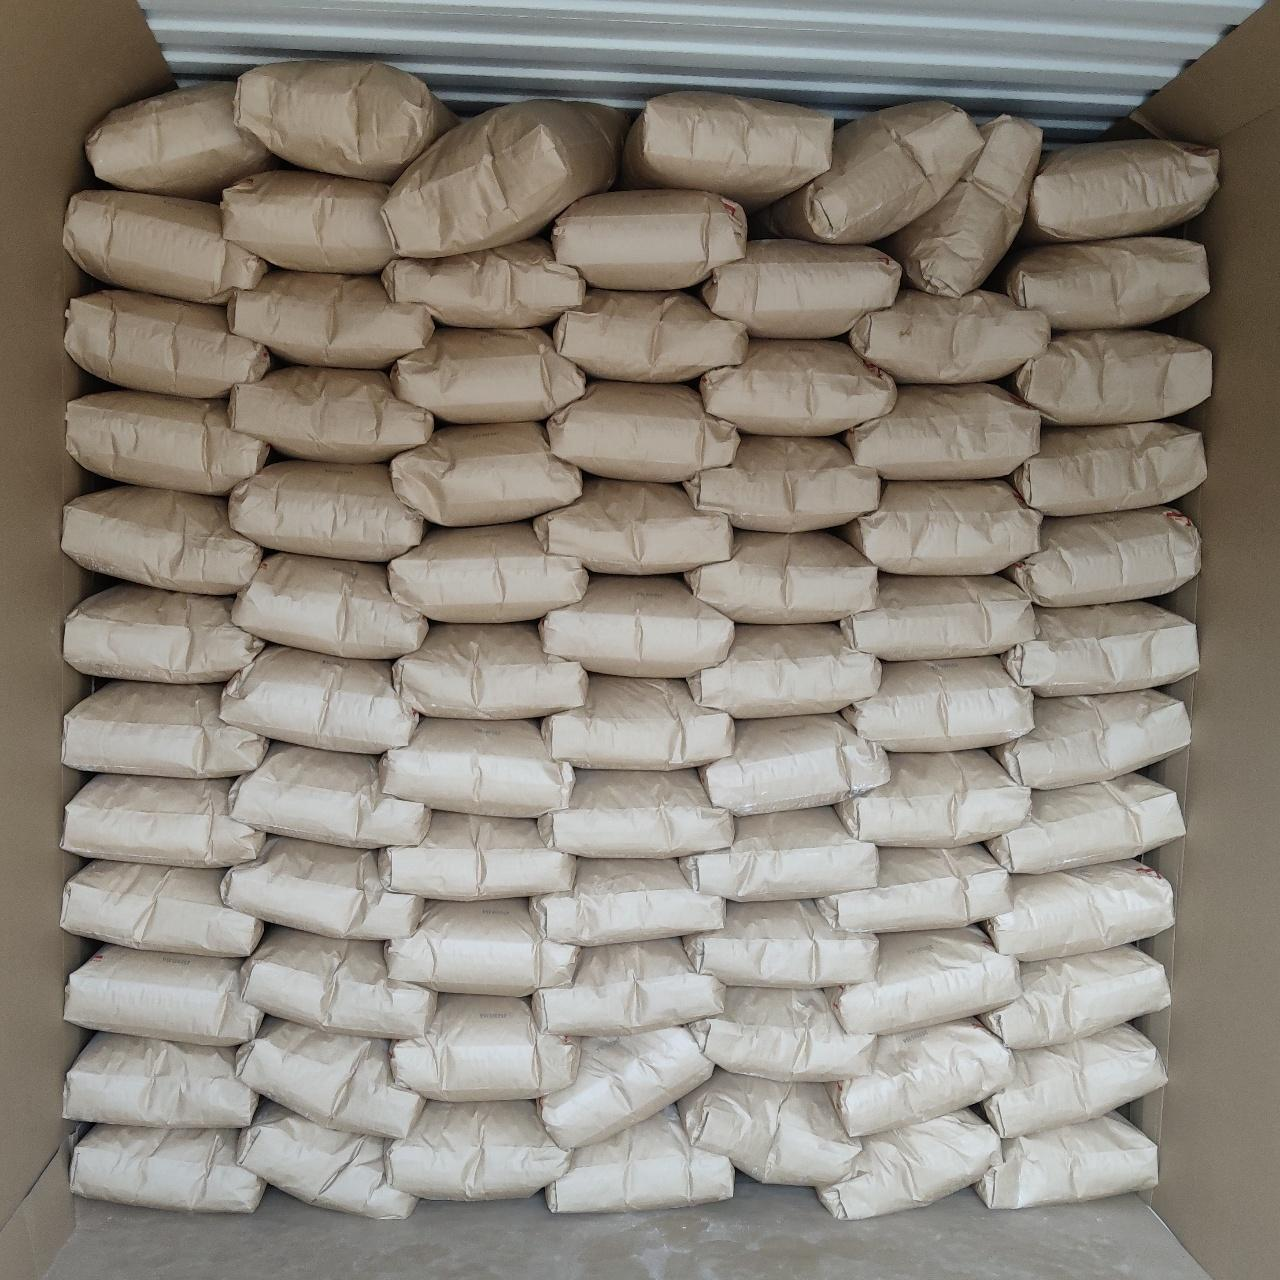sack: (386, 102, 622, 254), (768, 102, 980, 240), (888, 116, 1038, 294), (236, 60, 452, 180), (624, 90, 830, 206), (64, 190, 266, 302), (88, 82, 276, 198), (66, 290, 270, 396), (242, 926, 434, 1038), (238, 1018, 422, 1134), (66, 390, 270, 494), (540, 1026, 710, 1148), (832, 1020, 1012, 1134), (238, 1102, 414, 1218), (222, 836, 422, 938), (64, 486, 260, 590), (230, 744, 428, 846), (224, 646, 416, 750), (678, 1072, 858, 1182), (818, 1110, 998, 1220), (66, 582, 262, 682), (228, 270, 432, 366), (984, 1026, 1164, 1134), (390, 522, 586, 620), (1026, 140, 1218, 240), (394, 994, 574, 1100), (994, 690, 1188, 788), (68, 946, 262, 1044), (534, 478, 732, 574), (236, 554, 426, 654), (542, 576, 732, 676), (830, 928, 1016, 1030), (546, 1110, 732, 1212), (996, 236, 1206, 326), (230, 460, 422, 558), (1006, 508, 1198, 606), (230, 366, 430, 460), (62, 862, 262, 956), (842, 480, 1040, 574), (394, 424, 580, 524), (838, 750, 1030, 846), (990, 774, 1182, 870), (702, 240, 898, 334), (982, 946, 1166, 1046), (64, 682, 264, 774), (702, 714, 886, 814), (382, 718, 572, 814), (684, 436, 878, 530), (548, 380, 734, 478), (986, 860, 1172, 958), (850, 290, 1048, 382), (1012, 330, 1210, 422), (552, 192, 744, 286), (846, 384, 1038, 478), (680, 808, 876, 900), (394, 624, 584, 718), (392, 328, 582, 422), (534, 940, 724, 1034), (1002, 602, 1196, 694), (64, 774, 262, 864), (388, 900, 576, 994), (554, 290, 746, 382), (700, 340, 894, 430), (690, 624, 878, 716), (66, 1034, 254, 1126), (1014, 422, 1206, 512), (382, 240, 582, 326), (222, 170, 394, 270), (686, 532, 876, 622), (388, 1102, 566, 1198), (380, 812, 574, 900), (846, 658, 1030, 750), (690, 986, 874, 1078), (544, 676, 732, 766), (976, 1114, 1156, 1206), (686, 900, 876, 986), (72, 1126, 262, 1212), (820, 846, 1008, 932), (540, 770, 732, 854), (842, 576, 1034, 658), (534, 860, 722, 942)
